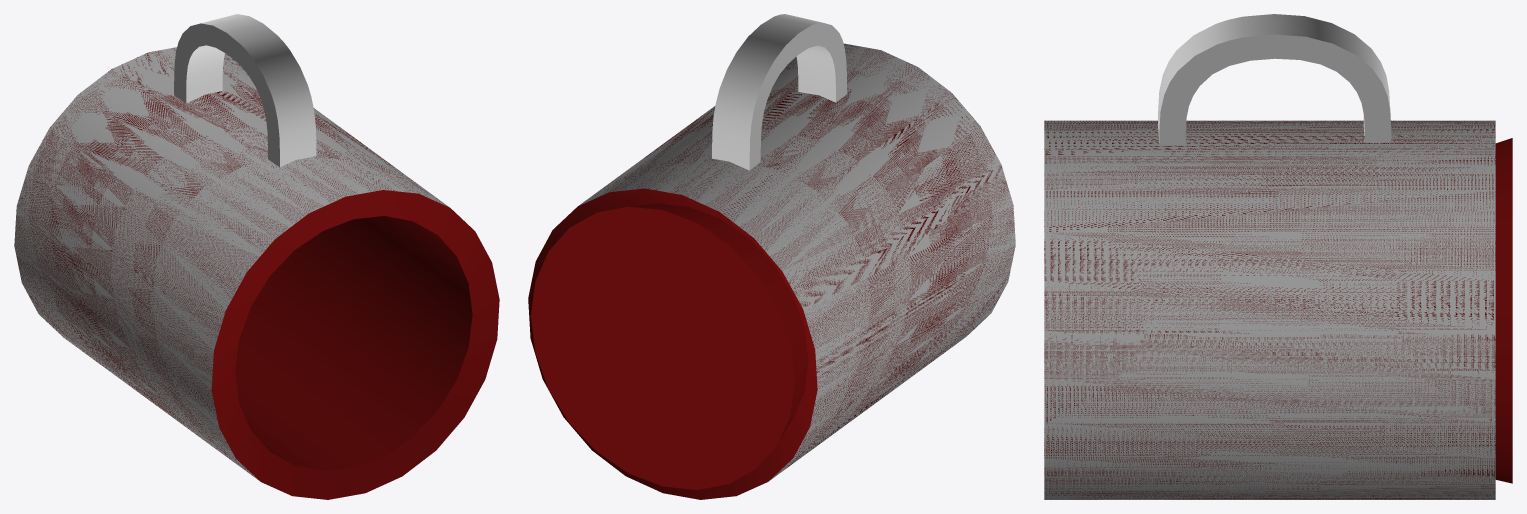
Rendered from model_scale.obj.
The picture shows the model from 3 angles, left to right: view 1: azimuth 30°, elevation 25°; view 2: azimuth 150°, elevation 25°; view 3: azimuth 270°, elevation 25°; orthographic projection. The views are drawn at different scales.
Parts seen in each view (by area): view 1: mesh4_mesh4-geometry, mesh1_mesh1-geometry; view 2: mesh4_mesh4-geometry, mesh1_mesh1-geometry; view 3: mesh4_mesh4-geometry, mesh1_mesh1-geometry.
Part boxes in pixels (x1=…): mesh4_mesh4-geometry: x1=14, y1=47, x2=499, y2=499; mesh1_mesh1-geometry: x1=174, y1=14, x2=316, y2=167; mesh4_mesh4-geometry: x1=528, y1=43, x2=1015, y2=499; mesh1_mesh1-geometry: x1=712, y1=14, x2=846, y2=170; mesh4_mesh4-geometry: x1=1044, y1=120, x2=1512, y2=499; mesh1_mesh1-geometry: x1=1158, y1=14, x2=1391, y2=145.
Bounding box in the file's own units: 0.0789 × 0.1036 × 0.0971.
